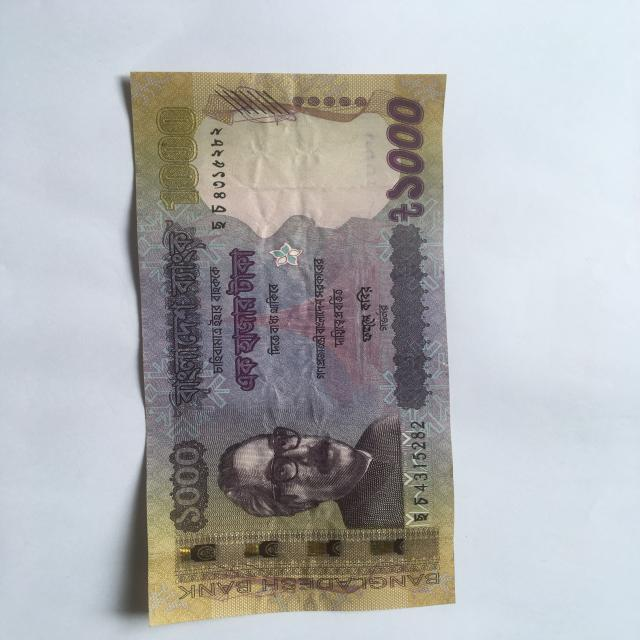Taka: (127, 58, 458, 632)
